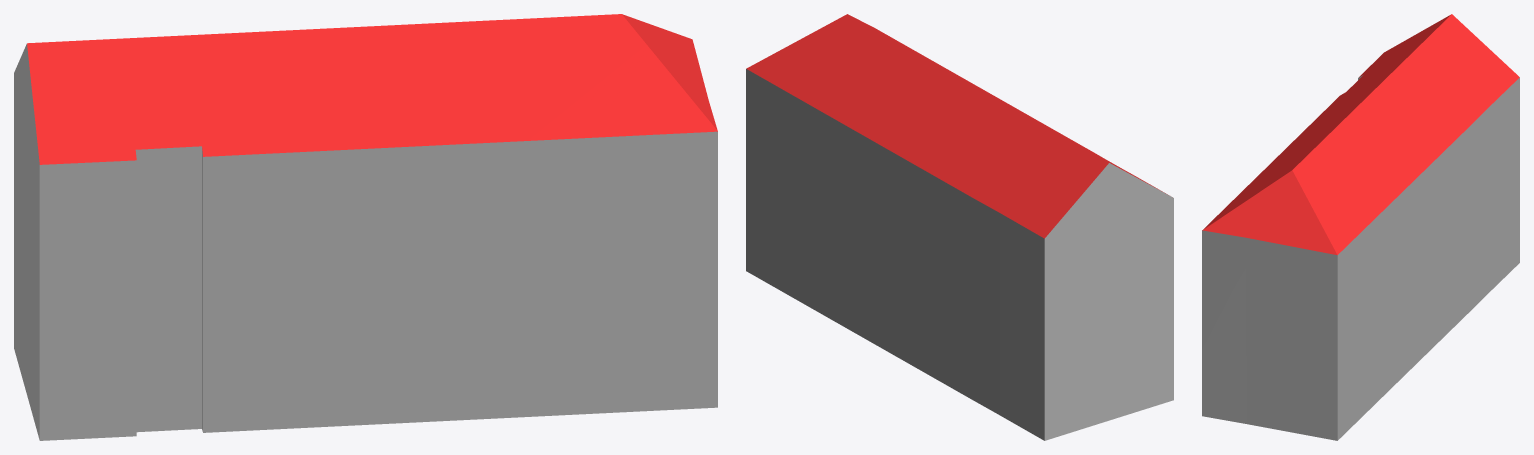
Rendered from DEBY_LOD2_4907032.dae.
3 views of the same model, side by side, from view 1: azimuth 30°, elevation 25°; view 2: azimuth 150°, elevation 25°; view 3: azimuth 270°, elevation 25° (orthographic). The views are drawn at different scales.
Size of the model in its own units: 35.8 by 23.71 by 19.46.
